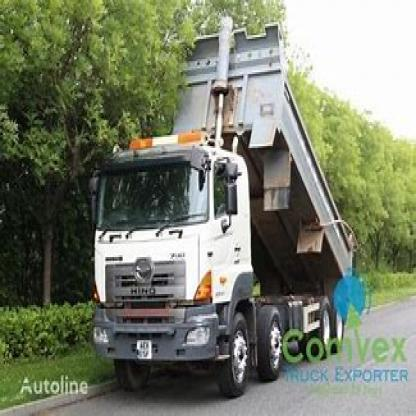dump_truck: (69, 30, 369, 375)
